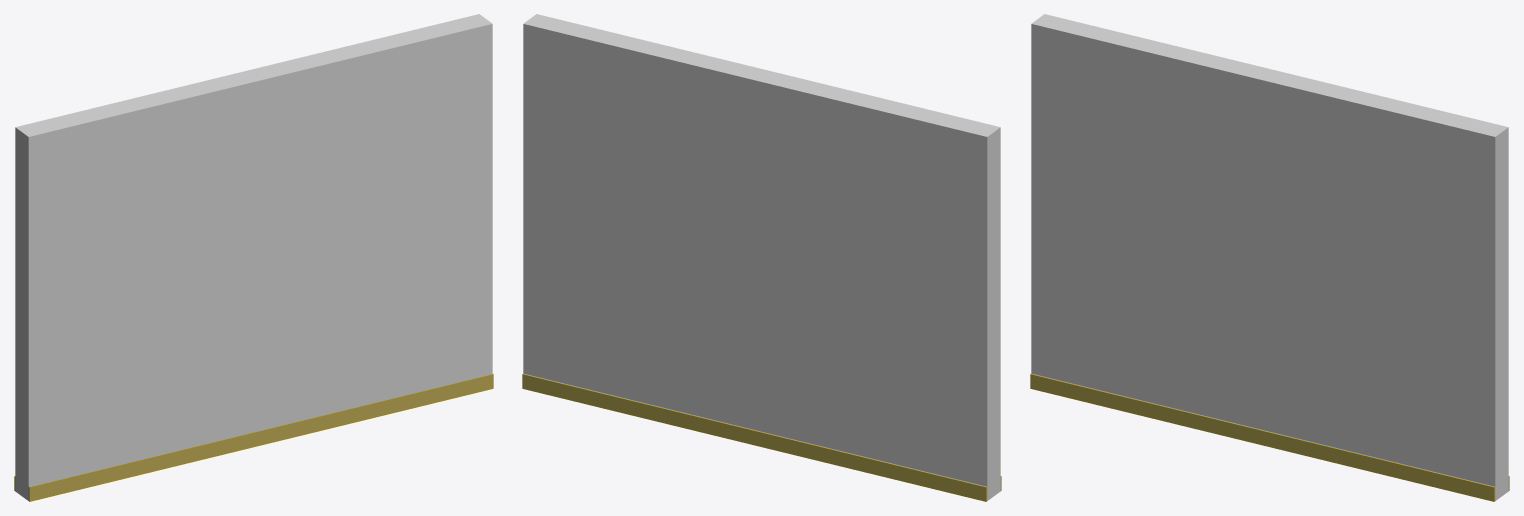
The model's file is MOD_03_Wall_VarB.fbx.
3 renders of one model, left to right at view 1: azimuth 30°, elevation 25°; view 2: azimuth 150°, elevation 25°; view 3: azimuth 330°, elevation 25°, orthographic.
Parts seen in each view (by area): view 1: MOD_03_Wall_VarB; view 2: MOD_03_Wall_VarB; view 3: MOD_03_Wall_VarB.
Boxes of the visible parts, <box> form: MOD_03_Wall_VarB: <box>14,14,493,501</box>; MOD_03_Wall_VarB: <box>522,14,1001,501</box>; MOD_03_Wall_VarB: <box>1030,14,1509,501</box>.
Size of the model in its own units: 4 by 3 by 0.23.
